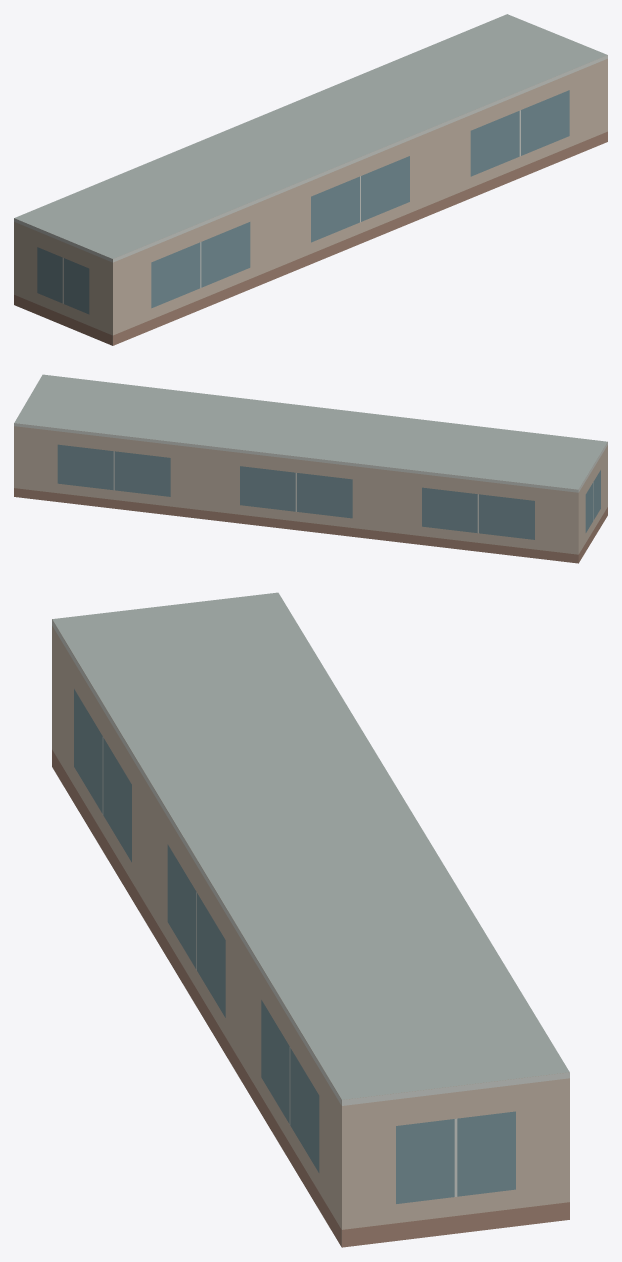
File: survey-upis-32990087.glb
3 renders of one model, top to bottom at view 1: azimuth 30°, elevation 25°; view 2: azimuth 150°, elevation 25°; view 3: azimuth 270°, elevation 25°, orthographic. The views are drawn at different scales.
Visible parts, largest first — view 1: survey-upis-32990087.tmp; view 2: survey-upis-32990087.tmp; view 3: survey-upis-32990087.tmp.
Part boxes in pixels (bbox=[...]): survey-upis-32990087.tmp: bbox=[14, 14, 607, 345]; survey-upis-32990087.tmp: bbox=[14, 374, 607, 563]; survey-upis-32990087.tmp: bbox=[52, 592, 569, 1247].
Size of the model in its own units: 22.52 by 3.05 by 9.72.
